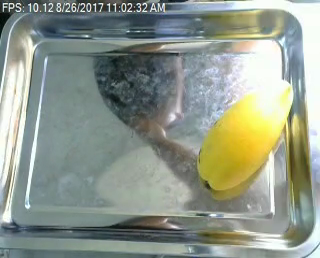Mango: (199, 76, 302, 197)
